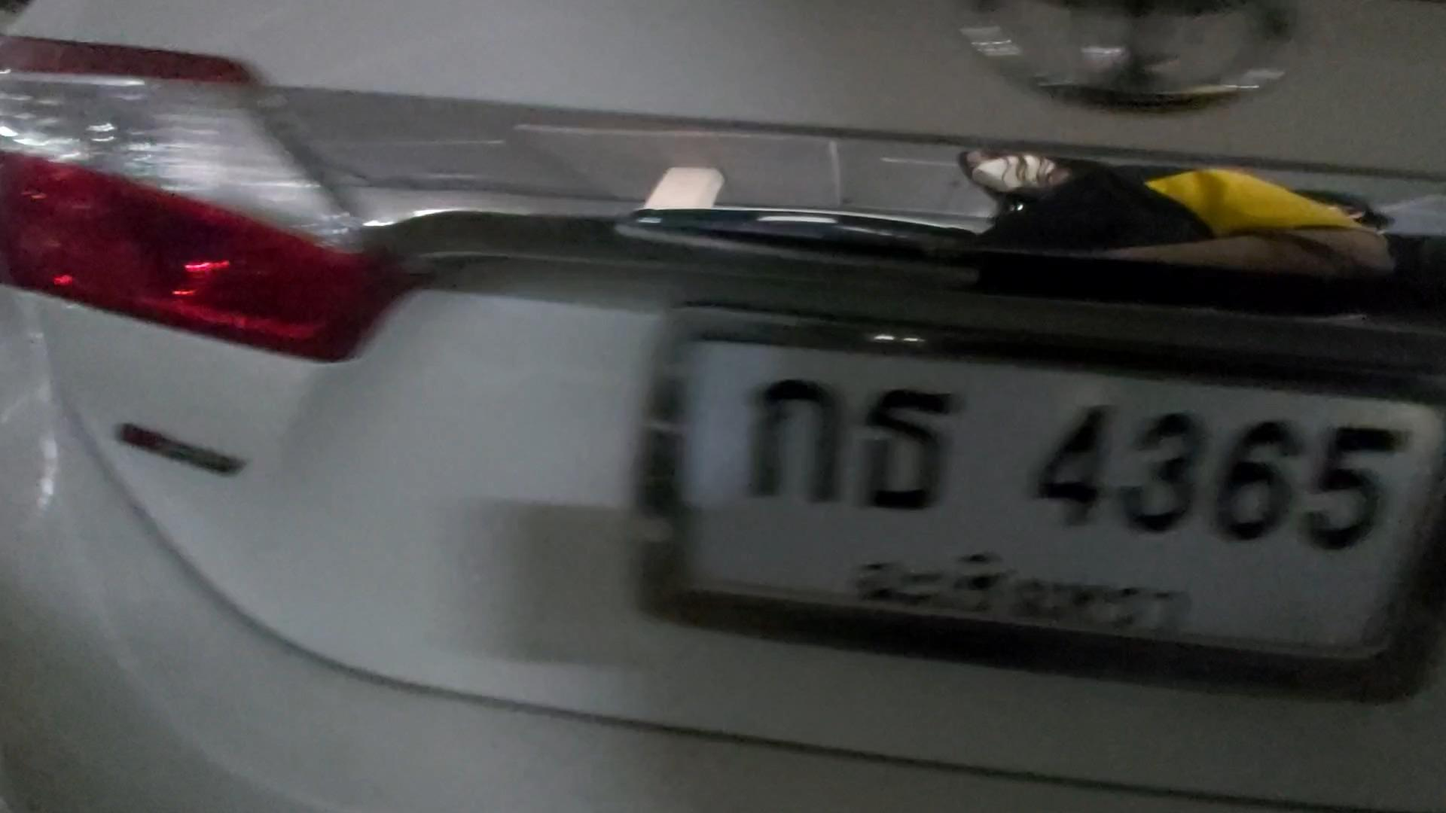license-plate: (692, 335, 1443, 663)
